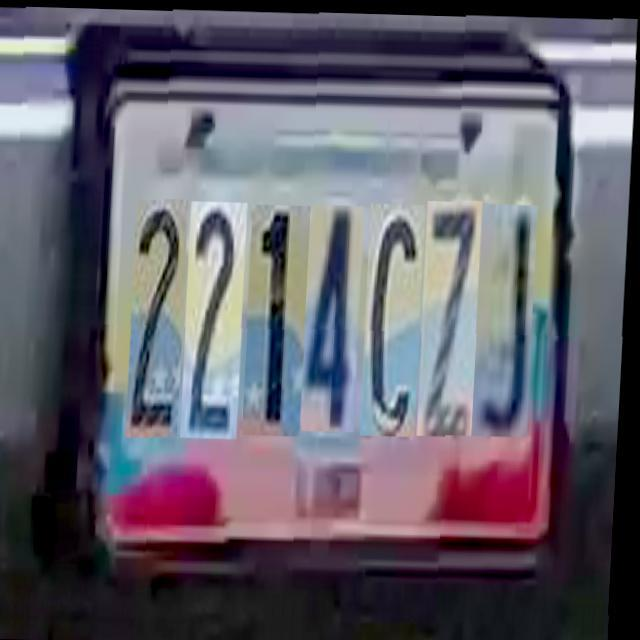1: (246, 200, 313, 432)
2: (184, 198, 250, 434), (130, 194, 190, 433)
4: (304, 202, 366, 428)
C: (363, 200, 428, 433)
J: (475, 201, 540, 434)
Z: (420, 197, 484, 433)
